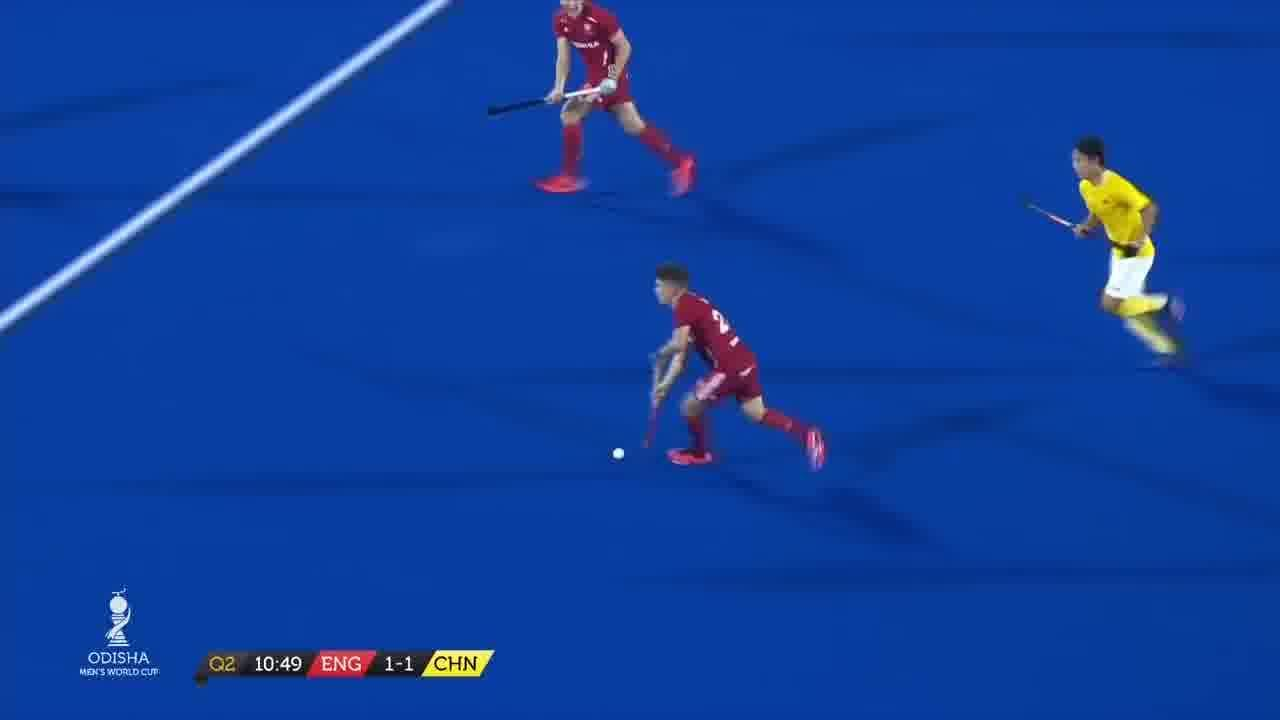ball: (607, 442, 632, 471)
